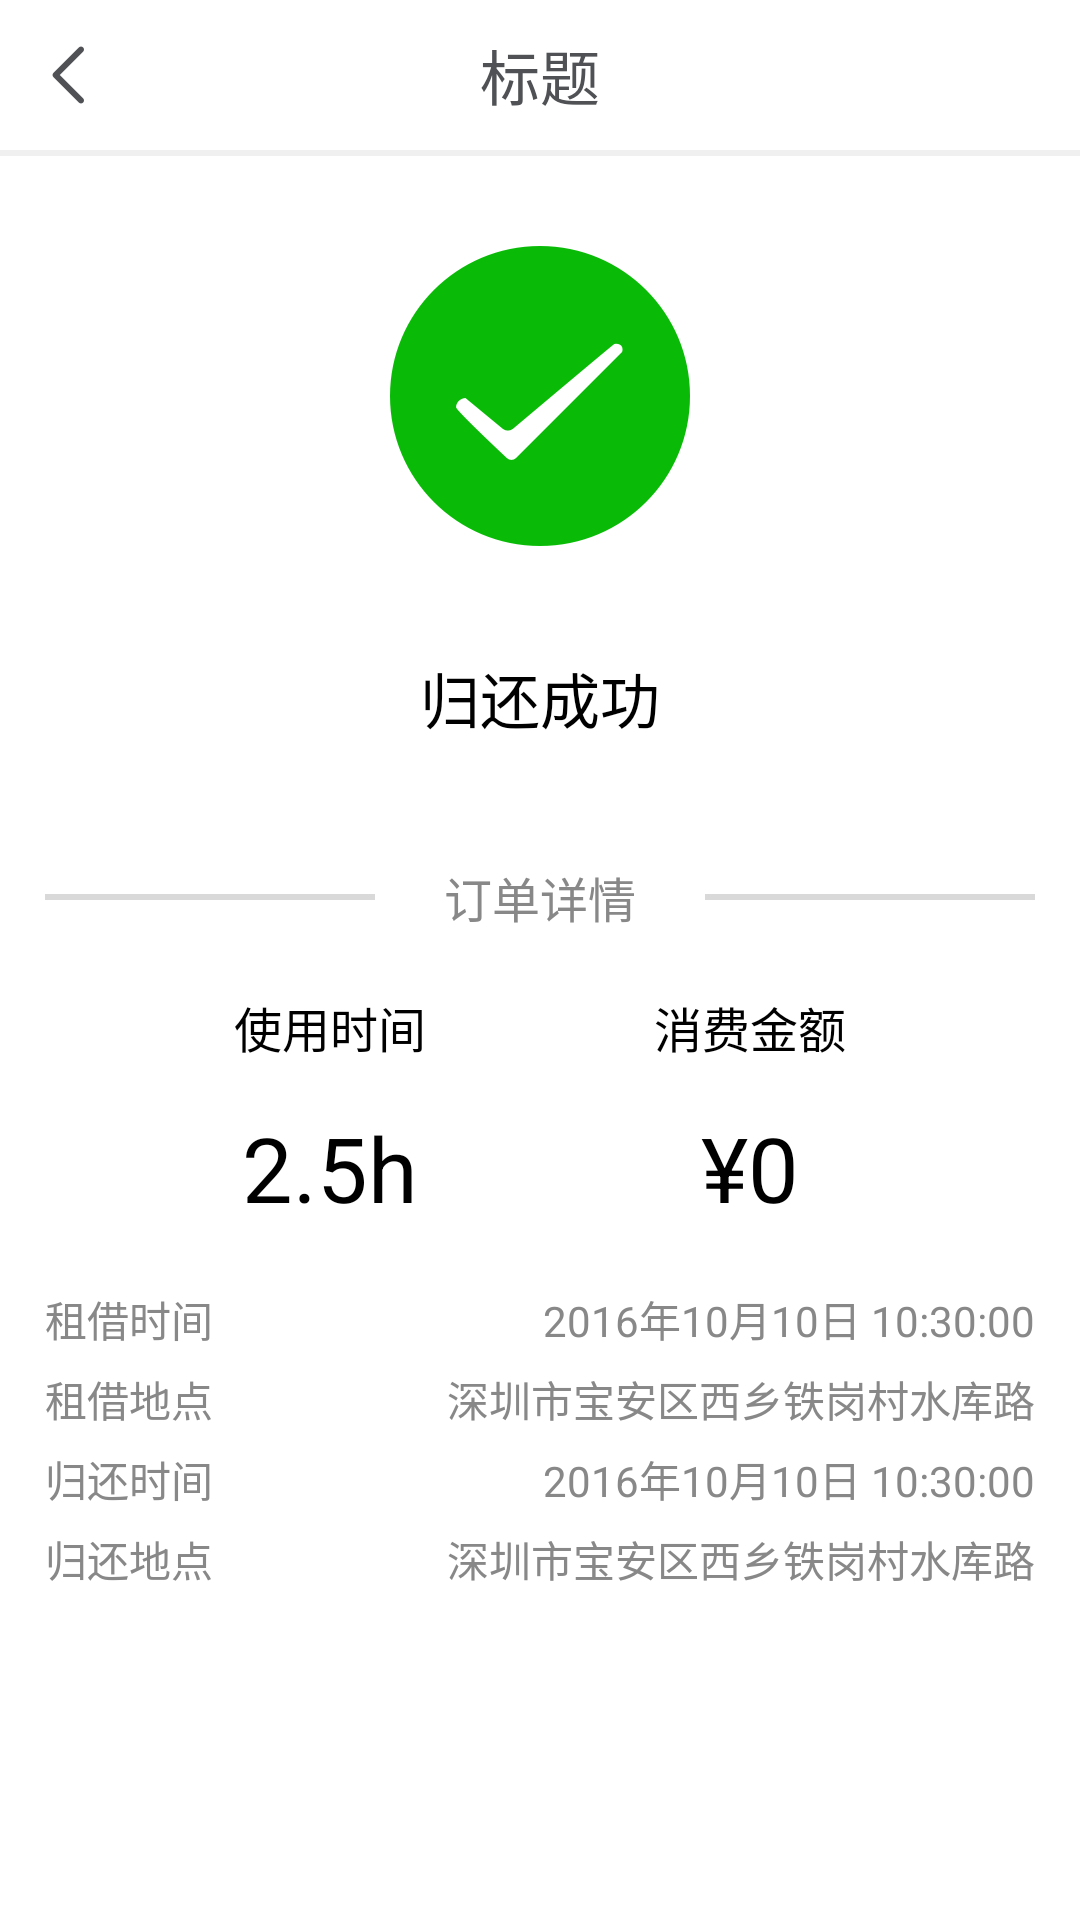

Screen size 1080*1920. Icon name, then its box in pixels as BBox(x1, y1, x2, y2):
back: BBox(52, 46, 84, 104)
success: BBox(390, 246, 690, 546)
